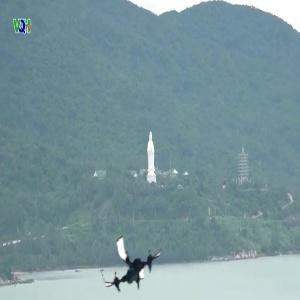drone: (98, 227, 168, 297)
